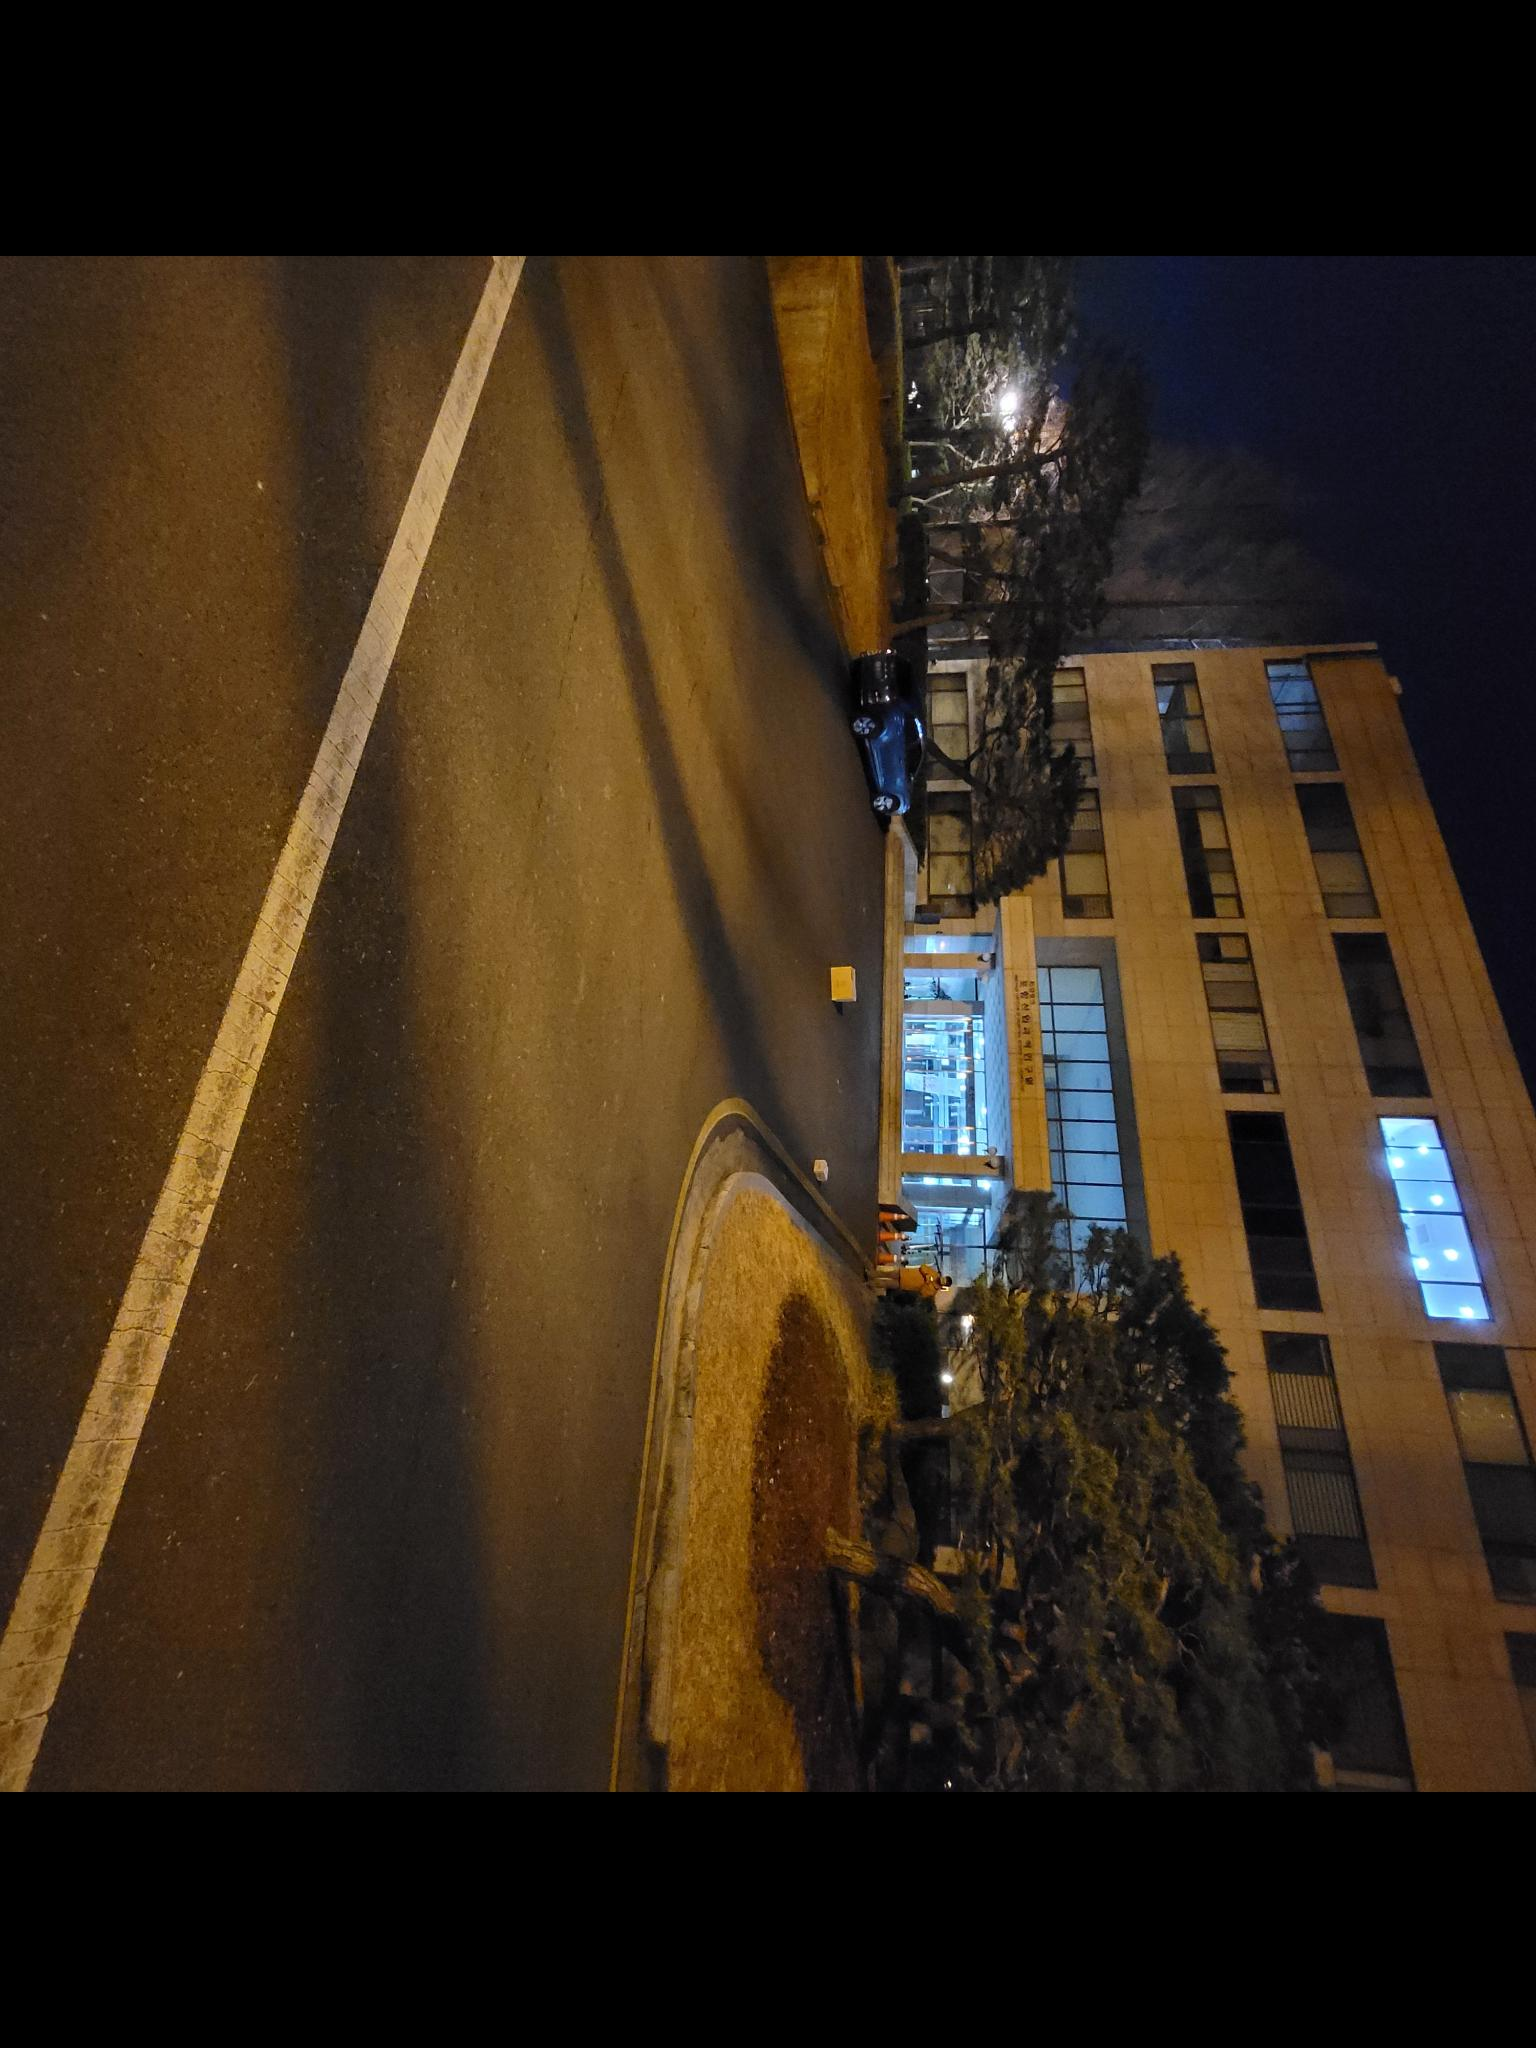Box: (829, 963, 858, 1006), (807, 1156, 834, 1185)
